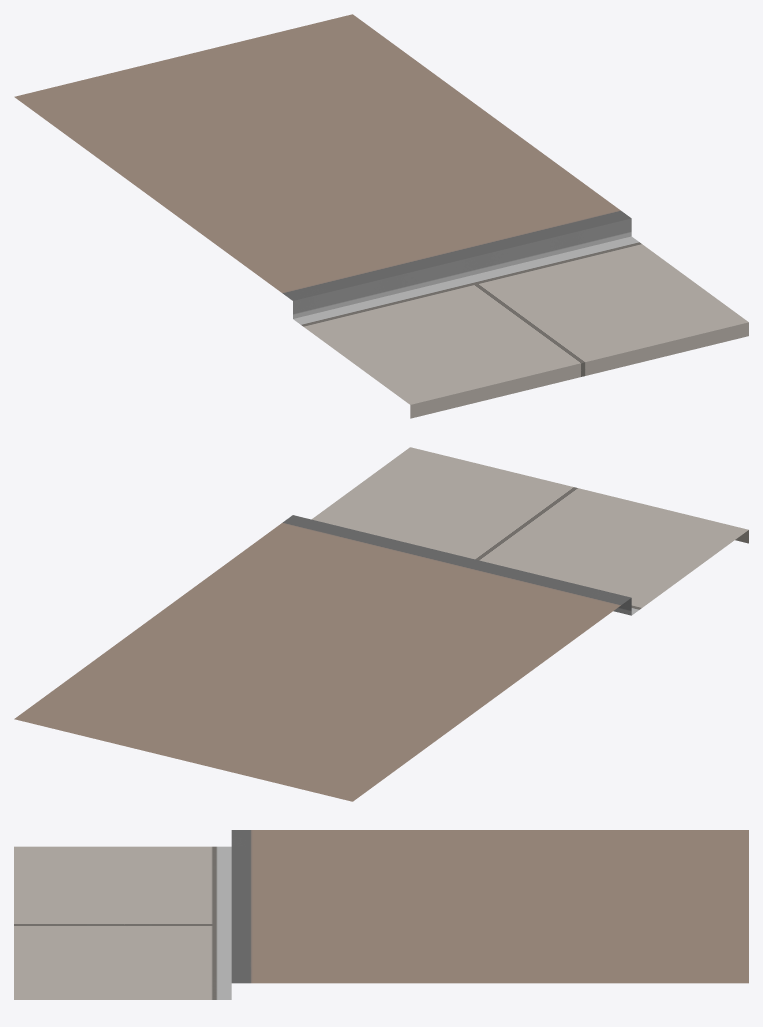
The model's file is island_top_mesh.fbx.
The picture shows the model from 3 angles, top to bottom: view 1: azimuth 30°, elevation 25°; view 2: azimuth 150°, elevation 25°; view 3: azimuth 270°, elevation 25°; orthographic projection. The views are drawn at different scales.
Parts seen in each view (by area): view 1: island_top_mesh1; view 2: island_top_mesh1; view 3: island_top_mesh1.
Boxes of the visible parts, left/top/right/bottom form: island_top_mesh1: left=14, top=14, right=748, bottom=418; island_top_mesh1: left=14, top=447, right=748, bottom=801; island_top_mesh1: left=14, top=830, right=748, bottom=999.
Size of the model in its own units: 5 by 0.4491 by 10.13.
